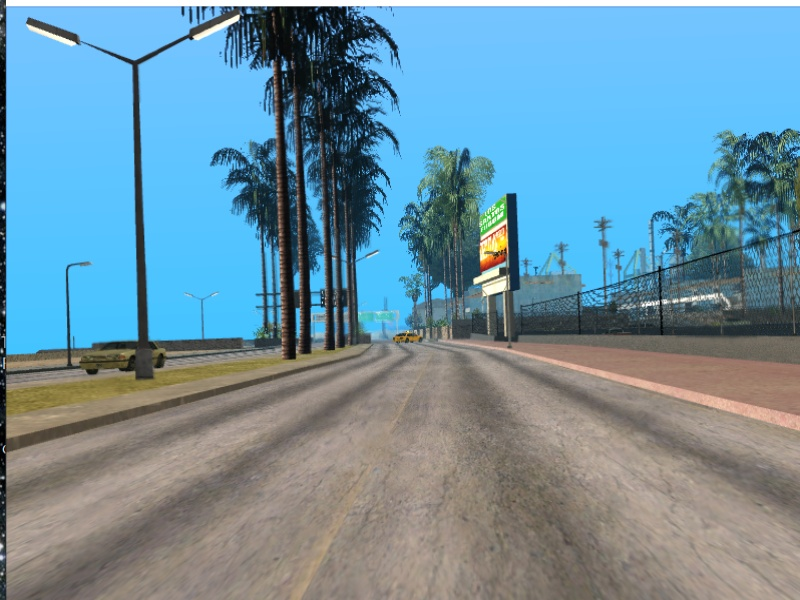pole: (125, 60, 152, 381), (62, 266, 75, 370), (502, 260, 514, 351)
tree: (270, 64, 298, 362), (293, 85, 317, 356), (320, 136, 336, 349)
vehicle: (77, 338, 167, 375), (391, 332, 422, 346)
